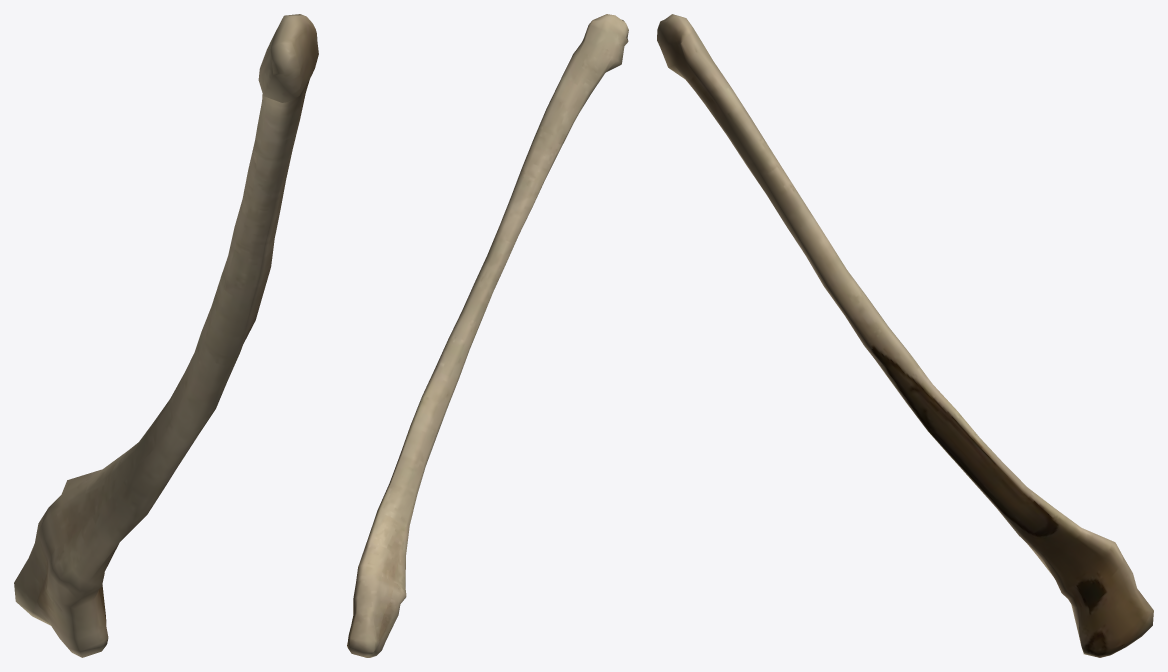
Rendered from Fibula.glb.
The picture shows the model from 3 angles, left to right: view 1: azimuth 30°, elevation 25°; view 2: azimuth 150°, elevation 25°; view 3: azimuth 270°, elevation 25°; orthographic projection. The views are drawn at different scales.
Parts seen in each view (by area): view 1: Fibula_Right1:Fibula_Right; view 2: Fibula_Right1:Fibula_Right; view 3: Fibula_Right1:Fibula_Right.
Part boxes in pixels (<box>): Fibula_Right1:Fibula_Right: <box>14,14,318,657</box>; Fibula_Right1:Fibula_Right: <box>347,14,628,657</box>; Fibula_Right1:Fibula_Right: <box>657,14,1153,657</box>.
Size of the model in its own units: 16.76 by 96.82 by 71.71.
1 material, 1 textured.
